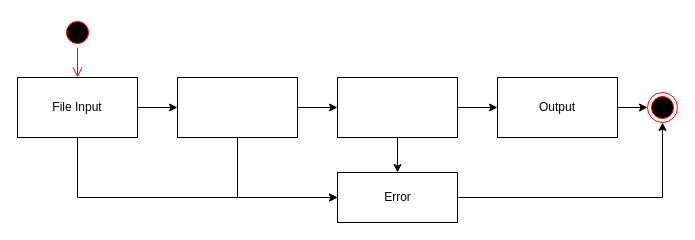
Image size: 695x240. Some labels were removed from this diagram. Each missing label, with the box of its shape:
Calculate Points: (176, 76, 298, 138)
Sort teams: (336, 76, 458, 138)
